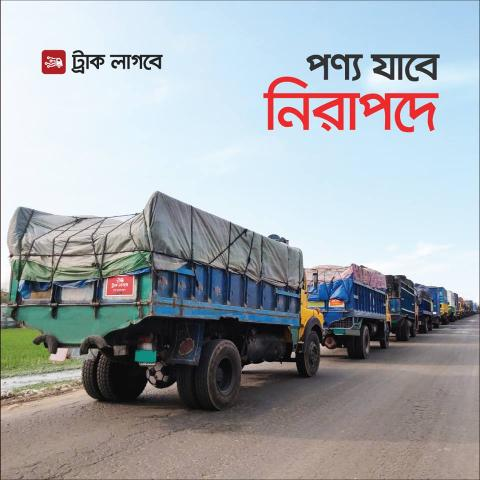truck: (1, 186, 323, 426), (319, 268, 392, 354), (391, 273, 422, 334), (419, 284, 437, 334), (439, 287, 452, 320), (452, 290, 461, 316)
